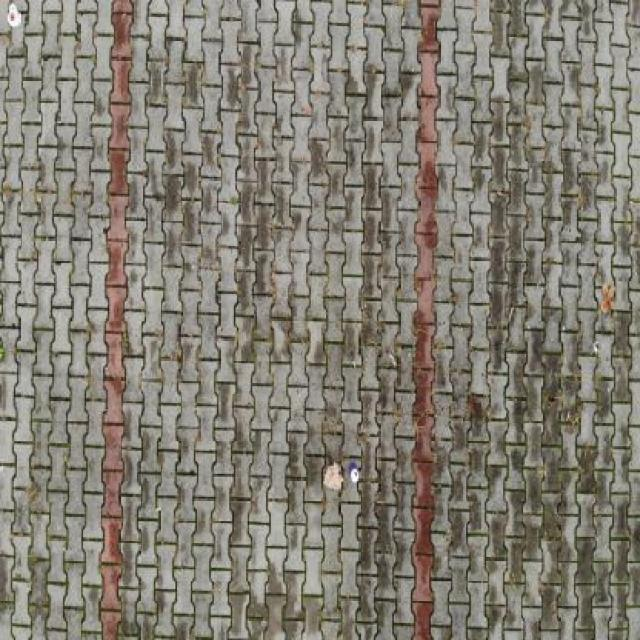Garbage: (323, 458, 344, 492), (7, 2, 21, 28), (348, 461, 358, 484)
